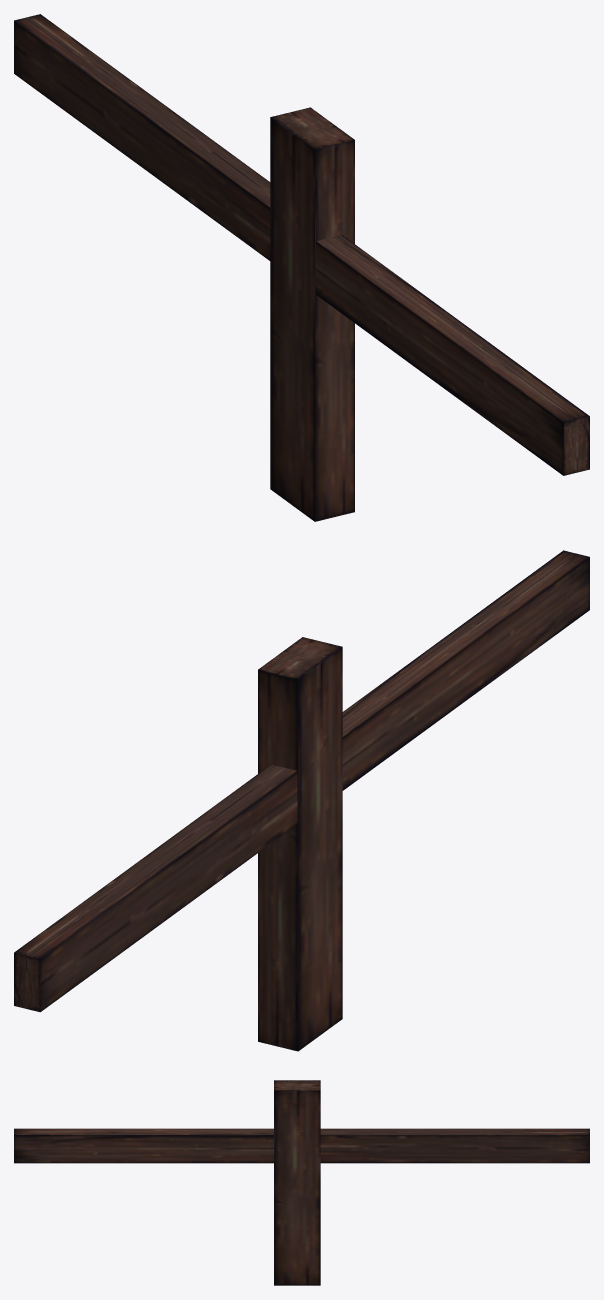
File: woodpartS.obj
3 views of the same model, one above another, from view 1: azimuth 30°, elevation 25°; view 2: azimuth 150°, elevation 25°; view 3: azimuth 270°, elevation 25° (orthographic). The views are drawn at different scales.
Visible parts, largest first — view 1: Cube.003_Cube.001; view 2: Cube.003_Cube.001; view 3: Cube.003_Cube.001.
Boxes of the visible parts, left/top/right/bottom form: Cube.003_Cube.001: left=14, top=14, right=589, bottom=521; Cube.003_Cube.001: left=14, top=550, right=589, bottom=1051; Cube.003_Cube.001: left=14, top=1080, right=589, bottom=1285.
Bounding box in the file's own units: 0.6212 × 5.51 × 14.74.
